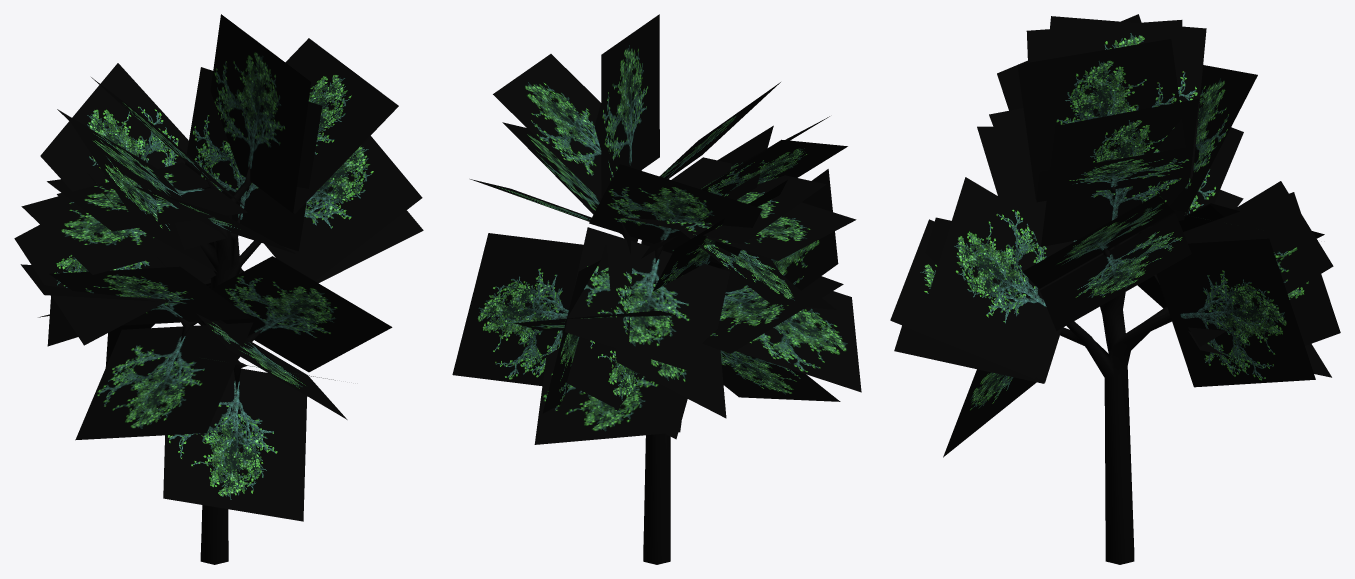
File: tree52.glb
The picture shows the model from 3 angles, left to right: view 1: azimuth 30°, elevation 25°; view 2: azimuth 150°, elevation 25°; view 3: azimuth 270°, elevation 25°; orthographic projection. The views are drawn at different scales.
Bounding box in the file's own units: 4.9 × 6.79 × 5.18.
Materials: 2 (1 with a texture image).
